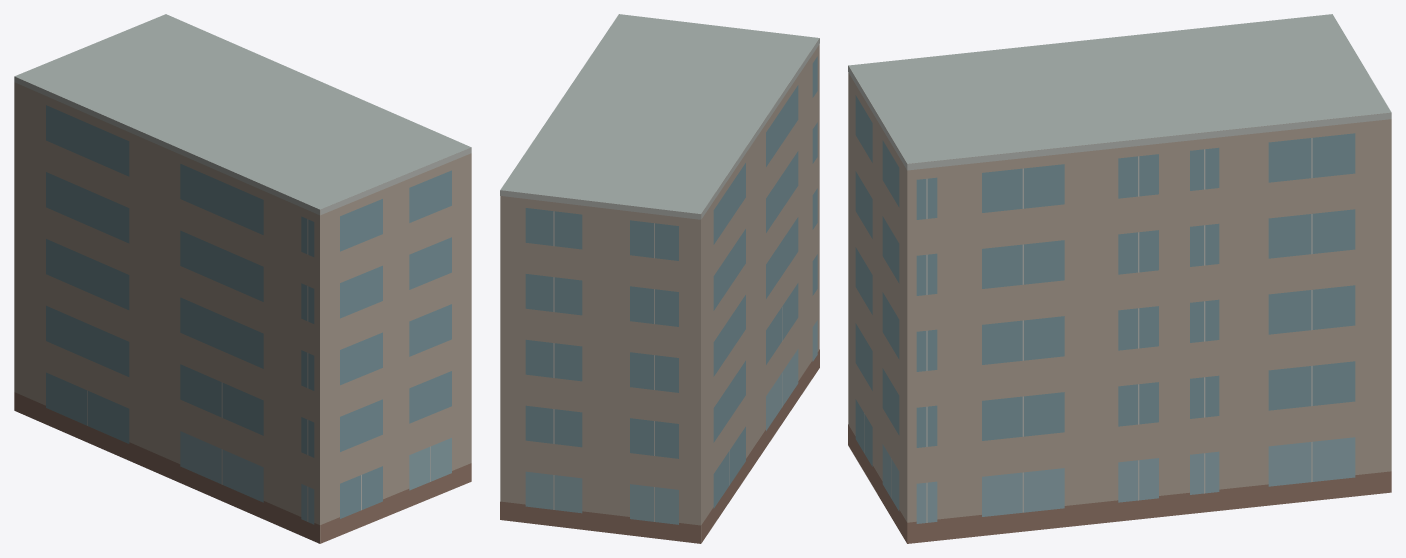
Rendered from survey-upis-32923797.glb.
3 views of the same model, side by side, from view 1: azimuth 30°, elevation 25°; view 2: azimuth 150°, elevation 25°; view 3: azimuth 270°, elevation 25° (orthographic). The views are drawn at different scales.
Visible parts, largest first — view 1: survey-upis-32923797.tmp; view 2: survey-upis-32923797.tmp; view 3: survey-upis-32923797.tmp.
Boxes of the visible parts, x1,y1,x2,y2 form: survey-upis-32923797.tmp: (14, 14, 471, 543); survey-upis-32923797.tmp: (500, 14, 819, 543); survey-upis-32923797.tmp: (848, 14, 1391, 543).
Size of the model in its own units: 11.99 by 14.15 by 18.35.
